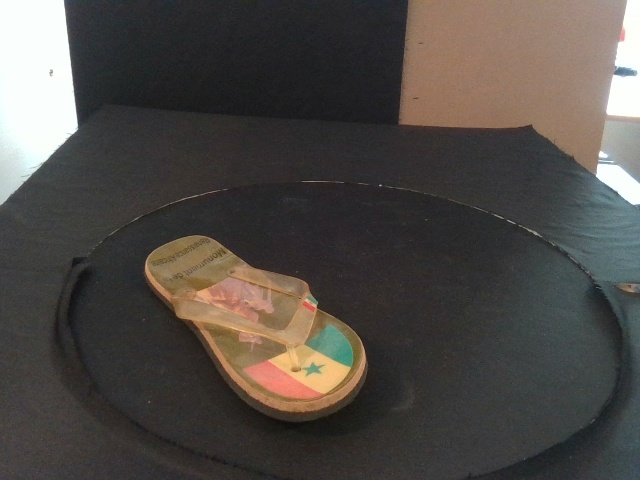shoe: (143, 234, 368, 422)
